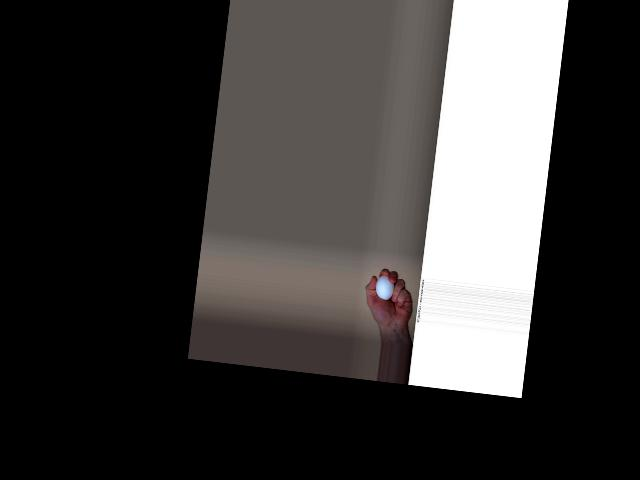egg: (374, 275, 395, 301)
